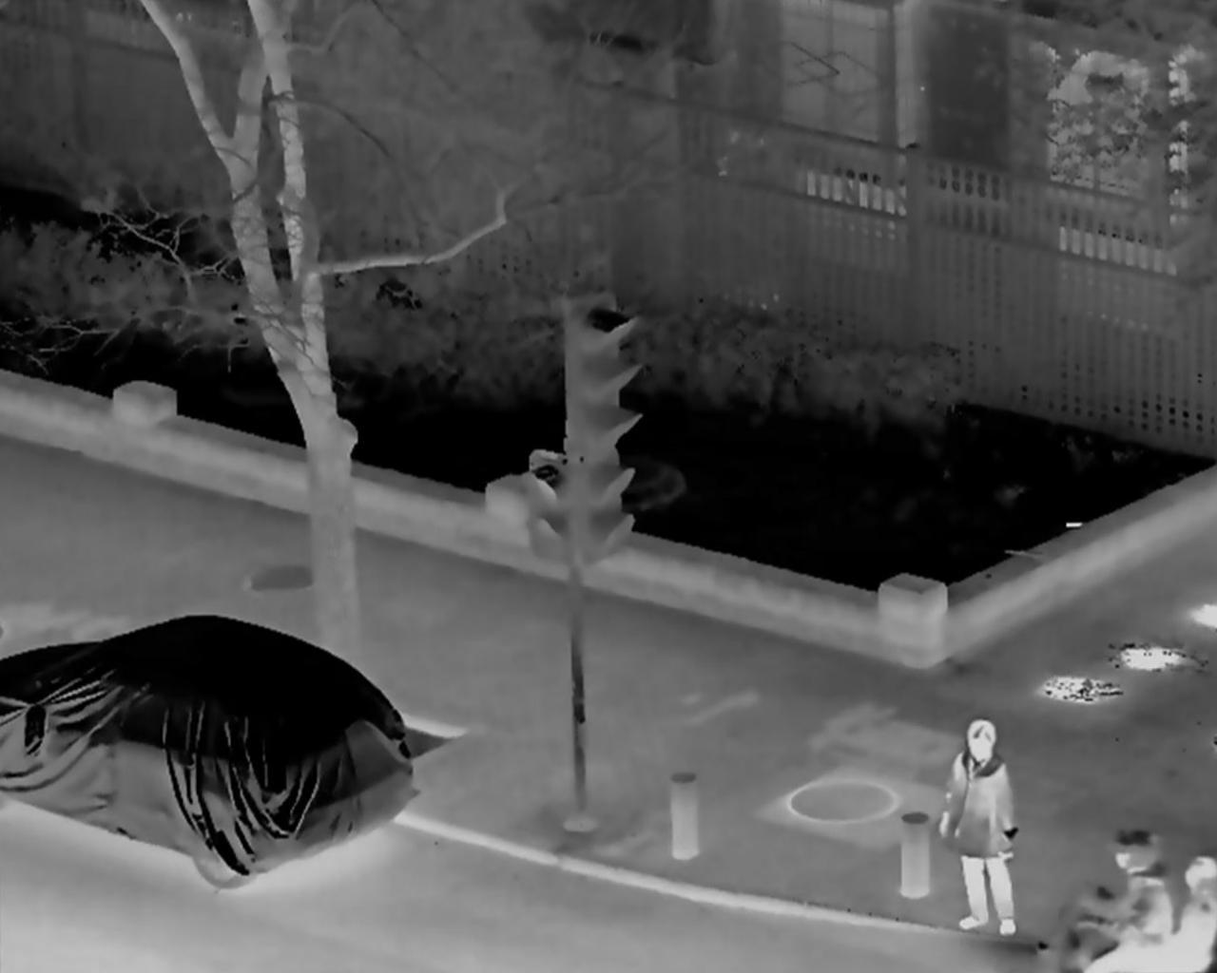person: (939, 717, 1023, 932), (1084, 829, 1169, 973), (1143, 858, 1217, 973)
